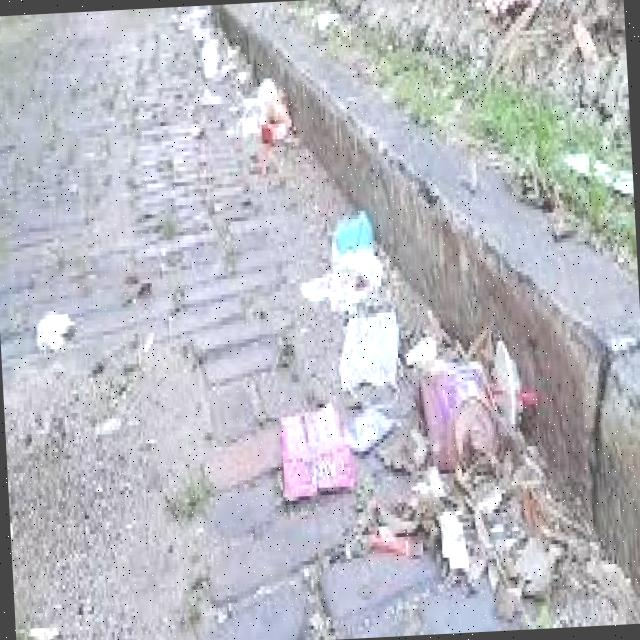curb: (299, 61, 563, 377), (479, 275, 640, 538), (219, 2, 332, 117)
